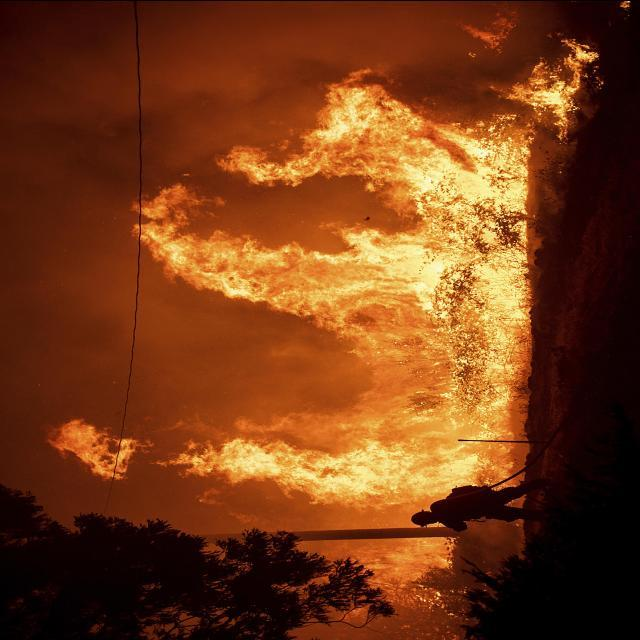Fire: (40, 20, 588, 590)
